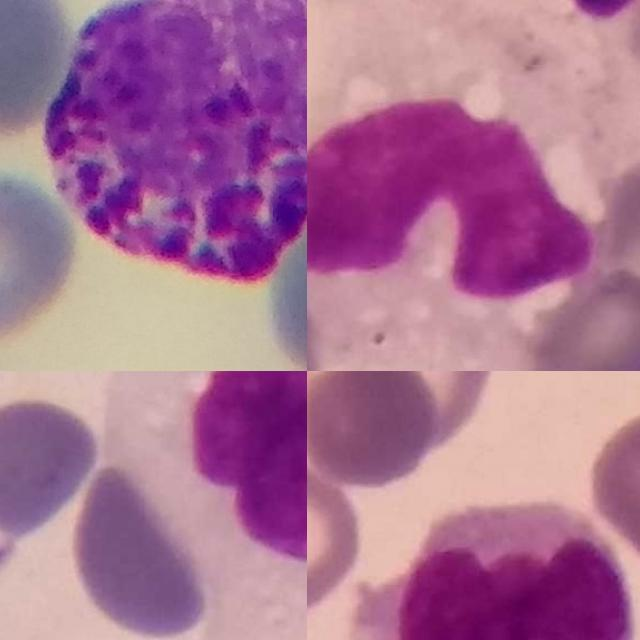Basophil: (42, 0, 307, 283)
Monocyte: (307, 48, 612, 306), (107, 371, 307, 596), (387, 498, 639, 640)
